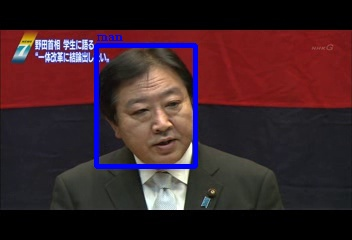man: (96, 45, 195, 166)
